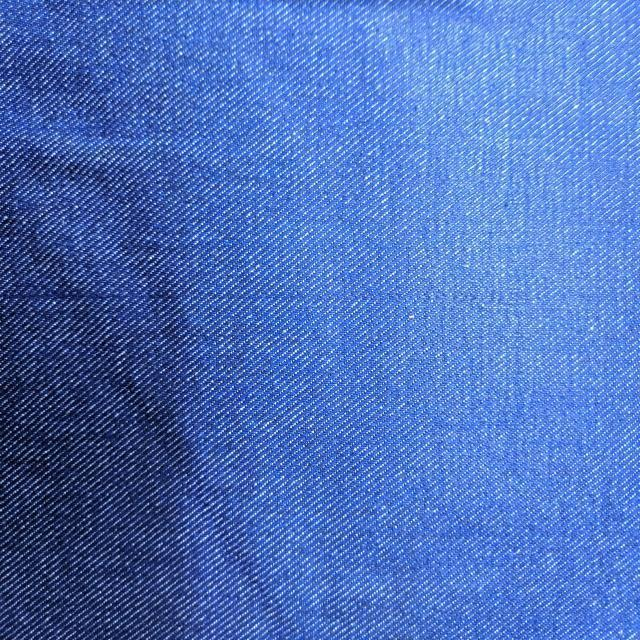Line: (0, 287, 524, 302)
